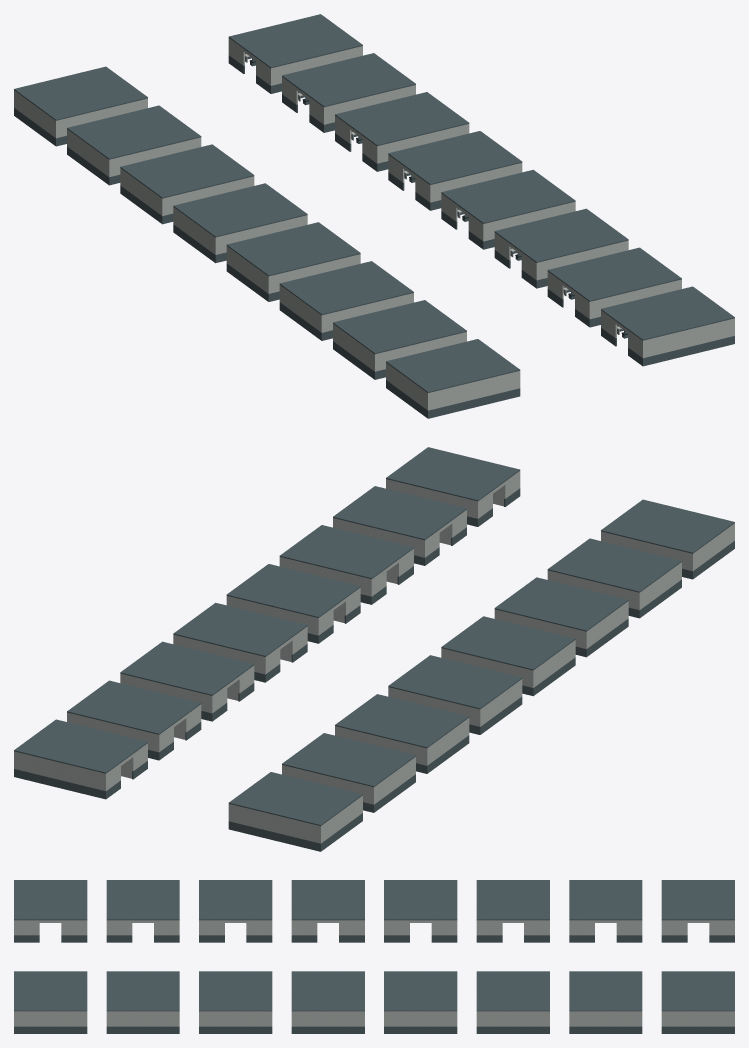
The model's file is AST-CRW-G3-002.glb.
3 renders of one model, top to bottom at view 1: azimuth 30°, elevation 25°; view 2: azimuth 150°, elevation 25°; view 3: azimuth 270°, elevation 25°, orthographic. The views are drawn at different scales.
Visible parts, largest first — view 1: C119__Shell__overhead_staff_bluegrey_paint_room, C120__Shell__overhead_staff_bluegrey_paint_room, C123__Shell__overhead_staff_bluegrey_paint_room, C175__Shell__overhead_staff_bluegrey_paint_room, C121__Shell__overhead_staff_bluegrey_paint_room, C168__Shell__overhead_staff_bluegrey_paint_room, C170__Shell__overhead_staff_bluegrey_paint_room, C171__Shell__overhead_staff_bluegrey_paint_room, C174__Shell__overhead_staff_bluegrey_paint_room, C118__Shell__overhead_staff_bluegrey_paint_room, C122__Shell__overhead_staff_bluegrey_paint_room, C125__Shell__overhead_staff_bluegrey_paint_room (+22 smaller); view 2: C124__Shell__overhead_staff_bluegrey_paint_room, C120__Shell__overhead_staff_bluegrey_paint_room, C123__Shell__overhead_staff_bluegrey_paint_room, C168__Shell__overhead_staff_bluegrey_paint_room, C122__Shell__overhead_staff_bluegrey_paint_room, C169__Shell__overhead_staff_bluegrey_paint_room, C172__Shell__overhead_staff_bluegrey_paint_room, C173__Shell__overhead_staff_bluegrey_paint_room, C175__Shell__overhead_staff_bluegrey_paint_room, C118__Shell__overhead_staff_bluegrey_paint_room, C121__Shell__overhead_staff_bluegrey_paint_room, C125__Shell__overhead_staff_bluegrey_paint_room (+22 smaller); view 3: C118__Shell__overhead_staff_bluegrey_paint_room, C119__Shell__overhead_staff_bluegrey_paint_room, C120__Shell__overhead_staff_bluegrey_paint_room, C121__Shell__overhead_staff_bluegrey_paint_room, C122__Shell__overhead_staff_bluegrey_paint_room, C123__Shell__overhead_staff_bluegrey_paint_room, C124__Shell__overhead_staff_bluegrey_paint_room, C125__Shell__overhead_staff_bluegrey_paint_room, C168__Shell__overhead_staff_bluegrey_paint_room, C169__Shell__overhead_staff_bluegrey_paint_room, C170__Shell__overhead_staff_bluegrey_paint_room, C171__Shell__overhead_staff_bluegrey_paint_room (+36 smaller).
Boxes of the visible parts, x1,y1,x2,y2 form: C119__Shell__overhead_staff_bluegrey_paint_room: [67, 105, 201, 159]; C120__Shell__overhead_staff_bluegrey_paint_room: [120, 144, 254, 198]; C123__Shell__overhead_staff_bluegrey_paint_room: [279, 261, 413, 315]; C175__Shell__overhead_staff_bluegrey_paint_room: [601, 286, 734, 340]; C121__Shell__overhead_staff_bluegrey_paint_room: [173, 183, 307, 237]; C168__Shell__overhead_staff_bluegrey_paint_room: [228, 14, 362, 68]; C170__Shell__overhead_staff_bluegrey_paint_room: [335, 92, 469, 146]; C171__Shell__overhead_staff_bluegrey_paint_room: [388, 131, 522, 184]; C174__Shell__overhead_staff_bluegrey_paint_room: [547, 247, 681, 301]; C118__Shell__overhead_staff_bluegrey_paint_room: [14, 66, 147, 120]; C122__Shell__overhead_staff_bluegrey_paint_room: [226, 222, 360, 276]; C125__Shell__overhead_staff_bluegrey_paint_room: [386, 339, 520, 392]; C124__Shell__overhead_staff_bluegrey_paint_room: [547, 538, 681, 592]; C120__Shell__overhead_staff_bluegrey_paint_room: [335, 694, 469, 748]; C123__Shell__overhead_staff_bluegrey_paint_room: [494, 577, 628, 631]; C168__Shell__overhead_staff_bluegrey_paint_room: [14, 719, 147, 773]; C122__Shell__overhead_staff_bluegrey_paint_room: [441, 616, 575, 670]; C169__Shell__overhead_staff_bluegrey_paint_room: [67, 680, 201, 734]; C172__Shell__overhead_staff_bluegrey_paint_room: [226, 564, 360, 617]; C173__Shell__overhead_staff_bluegrey_paint_room: [279, 525, 413, 579]; C175__Shell__overhead_staff_bluegrey_paint_room: [386, 447, 520, 501]; C118__Shell__overhead_staff_bluegrey_paint_room: [228, 772, 362, 825]; C121__Shell__overhead_staff_bluegrey_paint_room: [388, 655, 522, 709]; C125__Shell__overhead_staff_bluegrey_paint_room: [601, 499, 734, 553]; C118__Shell__overhead_staff_bluegrey_paint_room: [661, 880, 734, 920]; C119__Shell__overhead_staff_bluegrey_paint_room: [569, 880, 642, 920]; C120__Shell__overhead_staff_bluegrey_paint_room: [476, 880, 549, 920]; C121__Shell__overhead_staff_bluegrey_paint_room: [384, 880, 457, 920]; C122__Shell__overhead_staff_bluegrey_paint_room: [291, 880, 364, 920]; C123__Shell__overhead_staff_bluegrey_paint_room: [199, 880, 272, 920]; C124__Shell__overhead_staff_bluegrey_paint_room: [106, 880, 179, 920]; C125__Shell__overhead_staff_bluegrey_paint_room: [14, 880, 87, 920]; C168__Shell__overhead_staff_bluegrey_paint_room: [661, 971, 734, 1011]; C169__Shell__overhead_staff_bluegrey_paint_room: [569, 971, 642, 1011]; C170__Shell__overhead_staff_bluegrey_paint_room: [476, 971, 549, 1011]; C171__Shell__overhead_staff_bluegrey_paint_room: [384, 971, 457, 1011].
Bounding box in the file's own units: 40 × 3.34 × 93.5.
28 materials, 28 textured.
